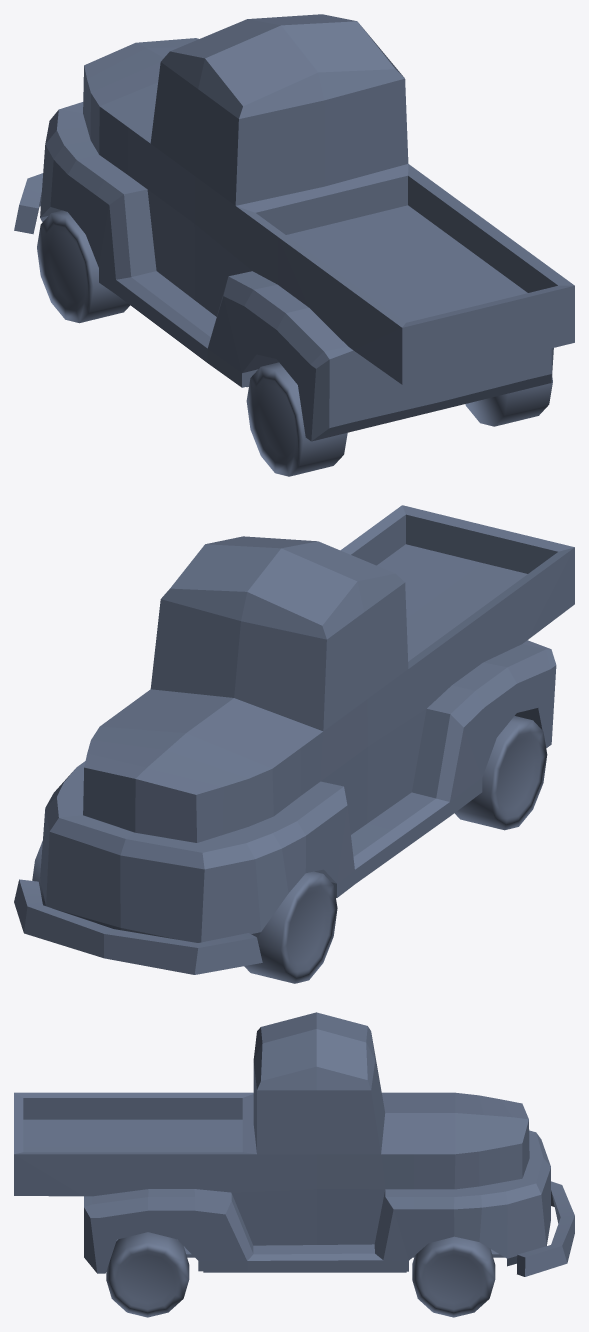
The model's file is Car_03_Blue.fbx.
3 renders of one model, top to bottom at view 1: azimuth 30°, elevation 25°; view 2: azimuth 150°, elevation 25°; view 3: azimuth 270°, elevation 25°, orthographic. The views are drawn at different scales.
Parts seen in each view (by area): view 1: Car_03_Blue; view 2: Car_03_Blue; view 3: Car_03_Blue.
Part boxes in pixels (<box>): Car_03_Blue: <box>14,14,574,476</box>; Car_03_Blue: <box>14,505,574,983</box>; Car_03_Blue: <box>14,1012,574,1317</box>.
Size of the model in its own units: 7.97 by 10.07 by 21.06.
